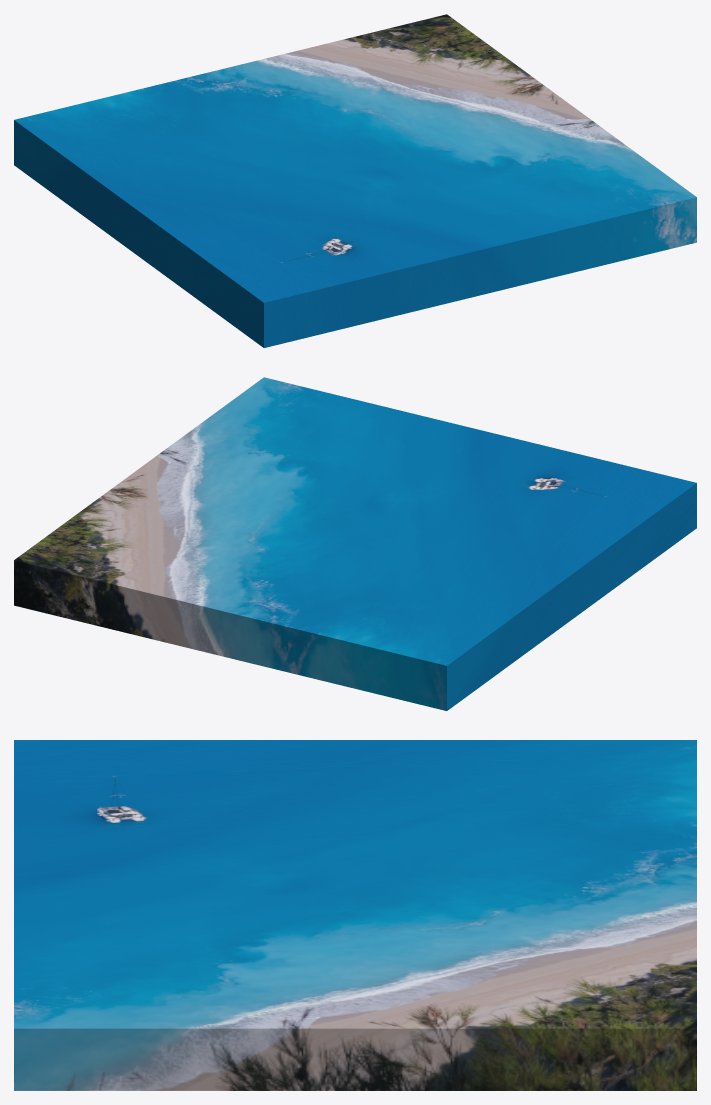
Rendered from tela.glb.
3 renders of one model, top to bottom at view 1: azimuth 30°, elevation 25°; view 2: azimuth 150°, elevation 25°; view 3: azimuth 270°, elevation 25°, orthographic. The views are drawn at different scales.
Parts seen in each view (by area): view 1: polySurface2; view 2: polySurface2; view 3: polySurface2.
Part boxes in pixels (left/top/right/bottom): polySurface2: left=14, top=14, right=696, bottom=347; polySurface2: left=14, top=377, right=696, bottom=710; polySurface2: left=14, top=740, right=696, bottom=1090.
Size of the model in its own units: 2.5 by 0.2572 by 2.5.
Materials: 3 (3 with a texture image).
